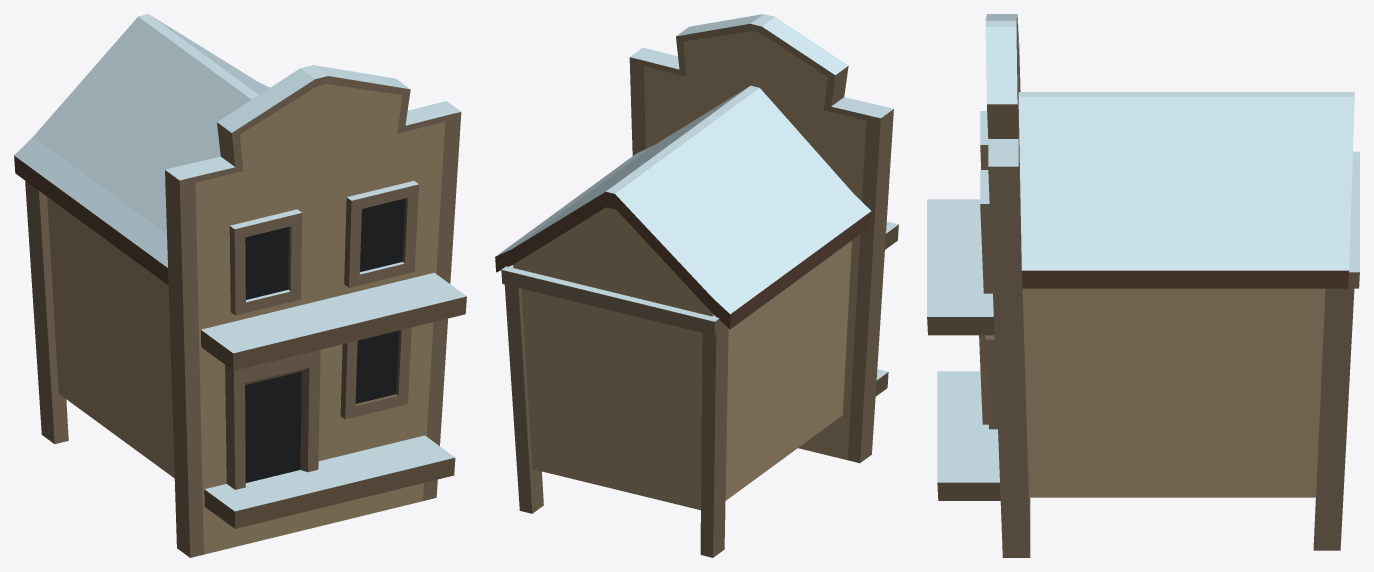
The model's file is SM_Bld_Western_Building_01_Snow.glb.
3 views of the same model, side by side, from view 1: azimuth 30°, elevation 25°; view 2: azimuth 150°, elevation 25°; view 3: azimuth 270°, elevation 25° (orthographic). The views are drawn at different scales.
Parts seen in each view (by area): view 1: SM_Bld_Western_Building_01_Snow; view 2: SM_Bld_Western_Building_01_Snow; view 3: SM_Bld_Western_Building_01_Snow.
Part boxes in pixels (<box>): SM_Bld_Western_Building_01_Snow: <box>14,14,466,557</box>; SM_Bld_Western_Building_01_Snow: <box>495,14,898,557</box>; SM_Bld_Western_Building_01_Snow: <box>927,14,1359,557</box>.
Size of the model in its own units: 0.8398 by 1.3 by 1.08.
Materials: 1 (1 with a texture image).
